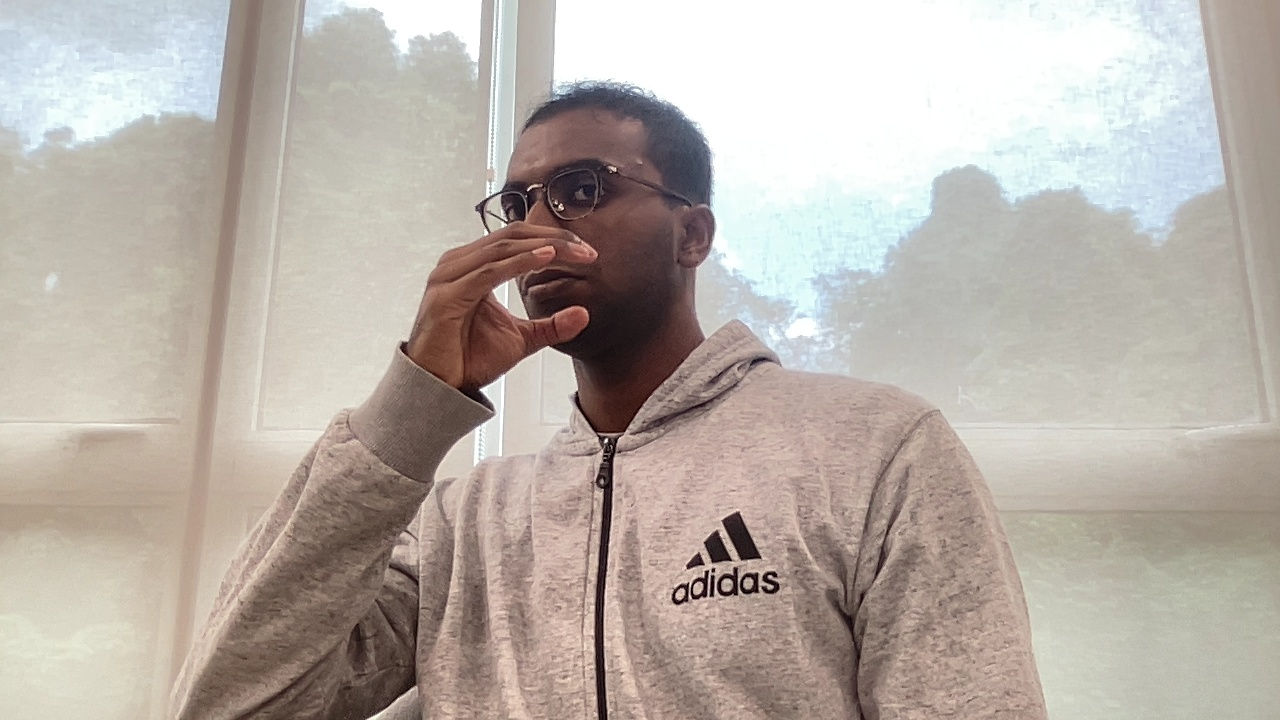drink: (404, 216, 603, 399)
